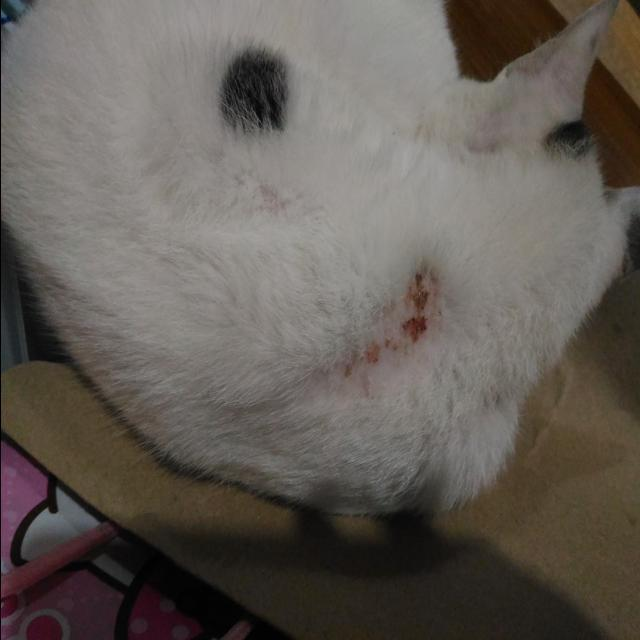hac lao: (225, 252, 484, 407)
